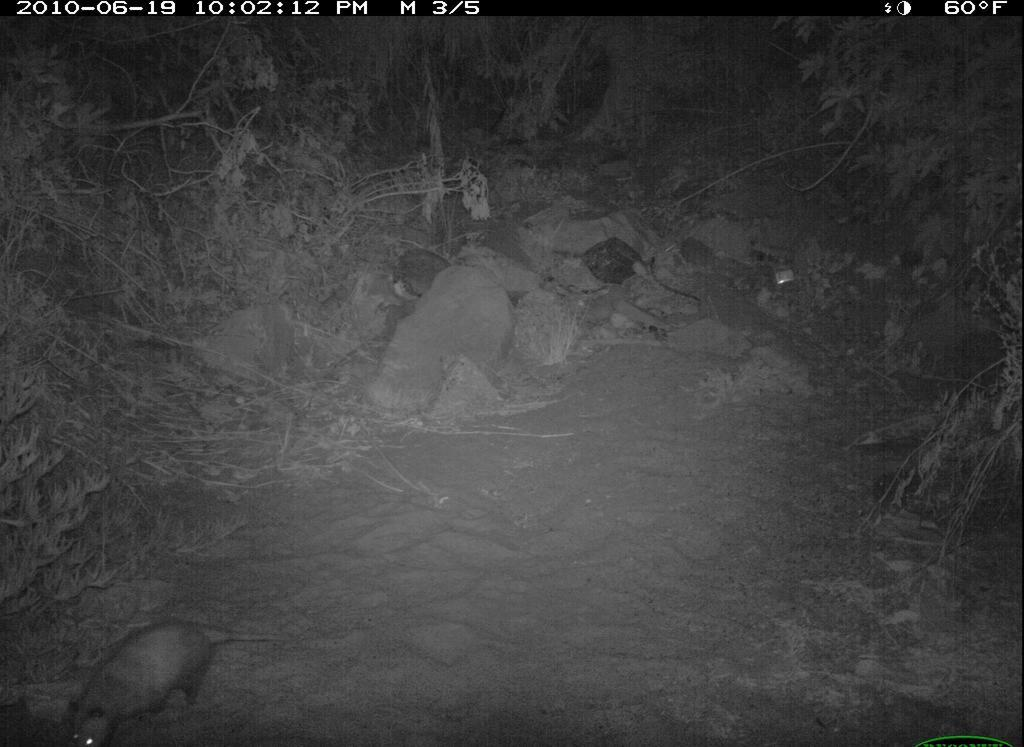opossum: (56, 611, 219, 747)
